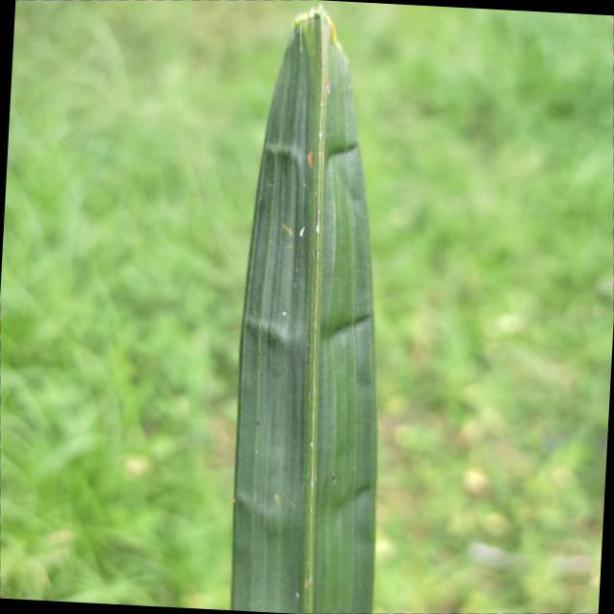Boron: (233, 3, 380, 614)
